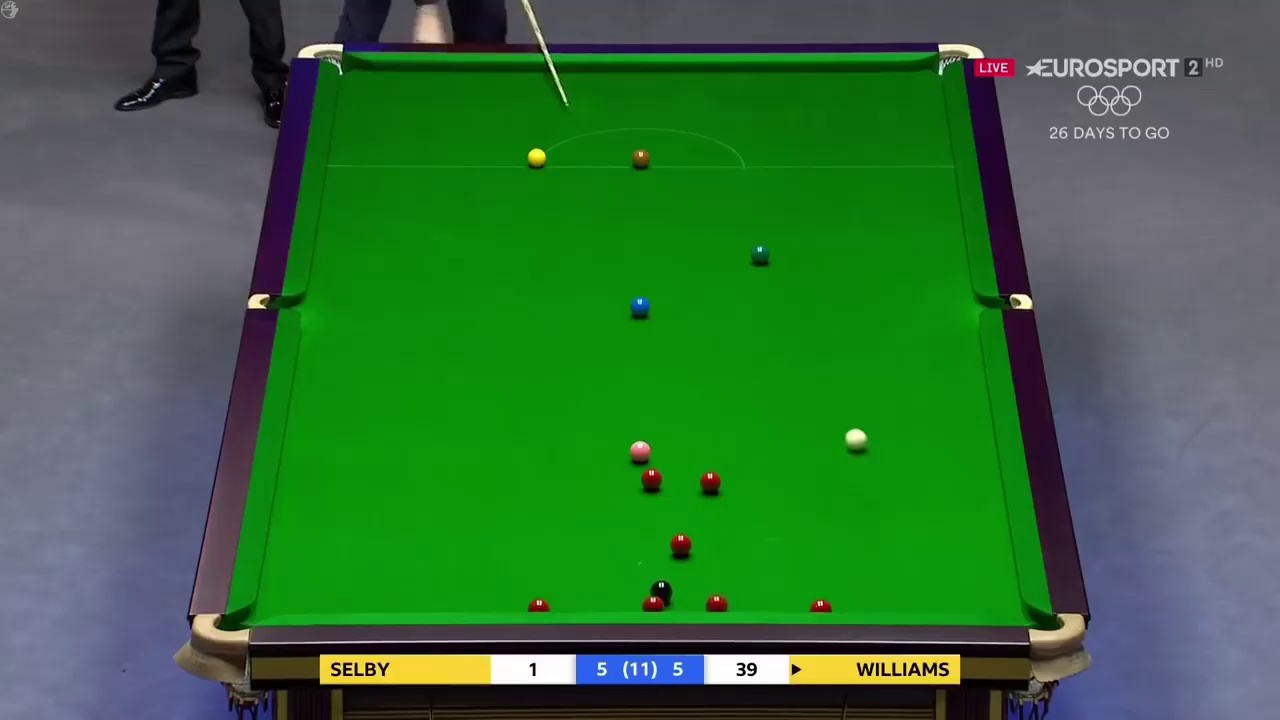ball: (697, 468, 724, 495), (845, 428, 867, 451), (641, 468, 663, 490), (628, 440, 649, 463), (750, 241, 769, 265), (671, 533, 690, 556), (525, 148, 546, 167), (629, 297, 648, 316), (634, 149, 650, 168)
